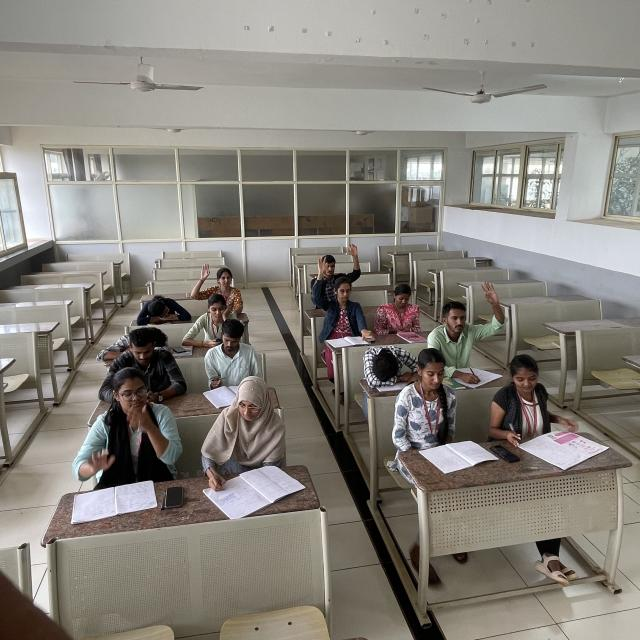Hand Rising: (435, 282, 506, 361), (314, 258, 362, 328), (318, 243, 359, 297), (196, 259, 240, 308)
Reading: (398, 351, 469, 462)
Sleeping: (94, 320, 170, 359), (362, 344, 419, 387), (134, 290, 188, 330)
Using Phone: (99, 330, 185, 403), (378, 285, 423, 334), (189, 295, 232, 345)
Writing: (202, 377, 296, 510), (493, 351, 567, 446), (206, 318, 260, 396)
